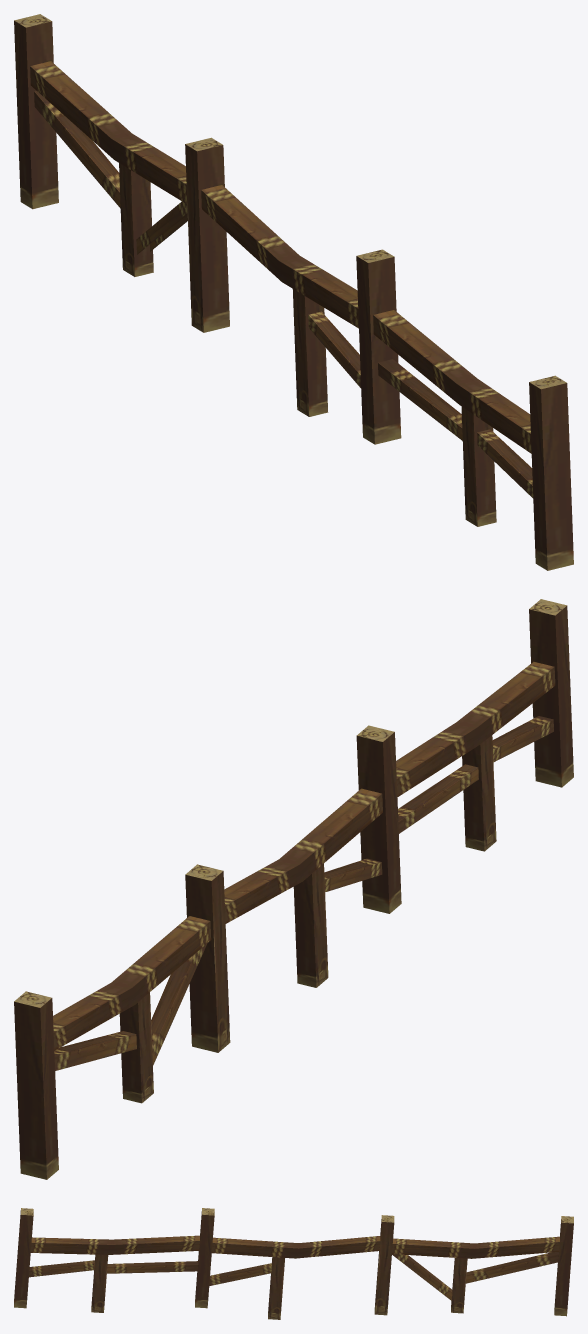
The model's file is environment_common_zhandao_001_d.FBX.
3 views of the same model, one above another, from view 1: azimuth 30°, elevation 25°; view 2: azimuth 150°, elevation 25°; view 3: azimuth 270°, elevation 25° (orthographic). The views are drawn at different scales.
Visible parts, largest first — view 1: environment_common_zhandao_001_d1, environment_common_zhandao_001_d3, environment_common_zhandao_001_d2; view 2: environment_common_zhandao_001_d1, environment_common_zhandao_001_d3, environment_common_zhandao_001_d2; view 3: environment_common_zhandao_001_d1, environment_common_zhandao_001_d3, environment_common_zhandao_001_d2.
Part boxes in pixels (box(x1,y1,x2,y2)): environment_common_zhandao_001_d1: box(14, 14, 229, 332); environment_common_zhandao_001_d3: box(373, 310, 573, 570); environment_common_zhandao_001_d2: box(201, 185, 401, 444); environment_common_zhandao_001_d1: box(14, 864, 230, 1179); environment_common_zhandao_001_d3: box(396, 599, 573, 851); environment_common_zhandao_001_d2: box(224, 725, 401, 987); environment_common_zhandao_001_d1: box(374, 1215, 573, 1316); environment_common_zhandao_001_d3: box(14, 1208, 199, 1312); environment_common_zhandao_001_d2: box(195, 1208, 380, 1319).
Size of the model in its own units: 28.92 by 210 by 1006.
